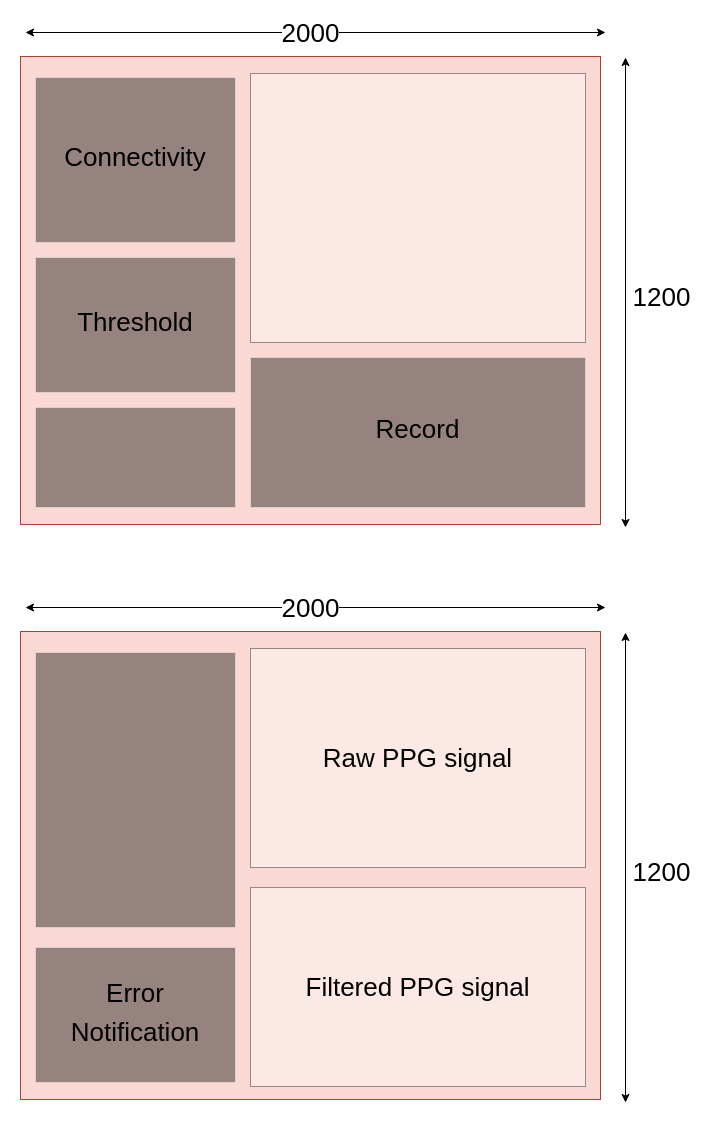
Image size: 707x1129. Some labels were removed from this diagram. Here are the shapes that lost their labels. From the top down, the centre of each, then its label:
At (418,207): "Heart rate".
At (135,457): "Threshold Notification".
At (135,790): "Set RTC".
